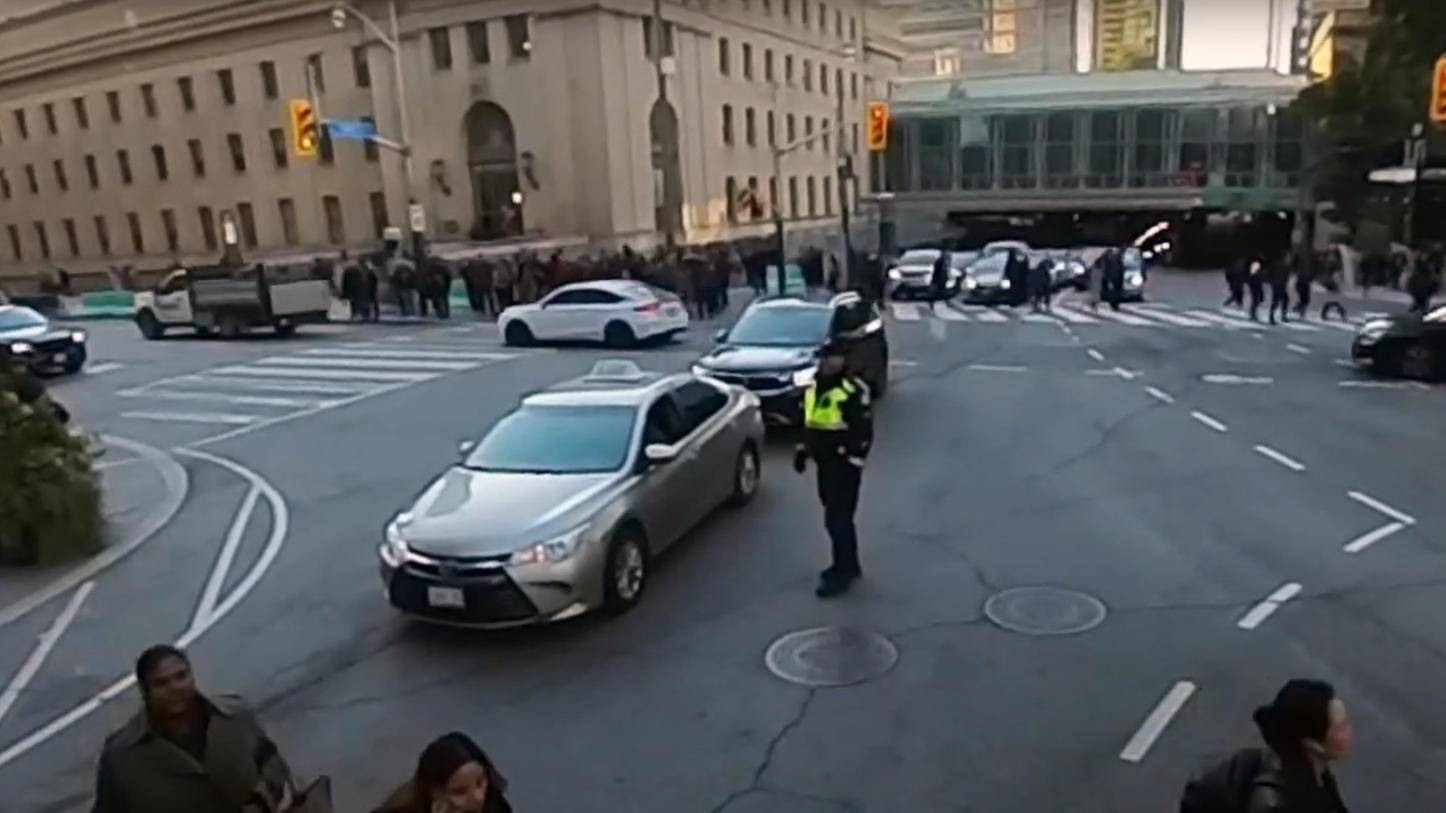Car: (390, 344, 767, 634), (483, 269, 681, 341)
Person: (780, 344, 896, 596)
